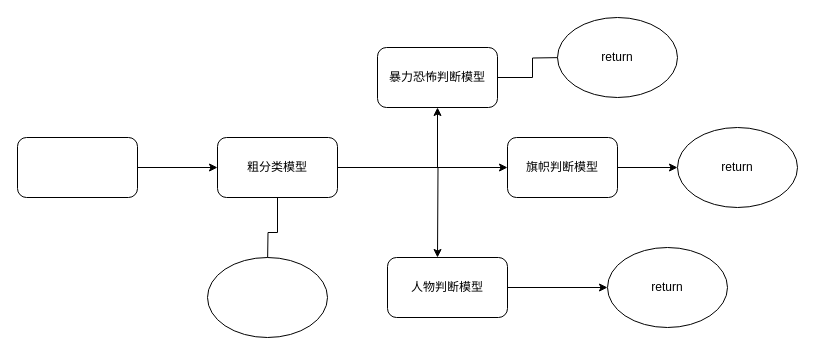
This 815x355 diagram has some shape labels left out. Here are the shapes that lost their labels. From the top down, the centre of each, then its label:
At (77,167): "输入".
At (267,297): "都没有，return".
